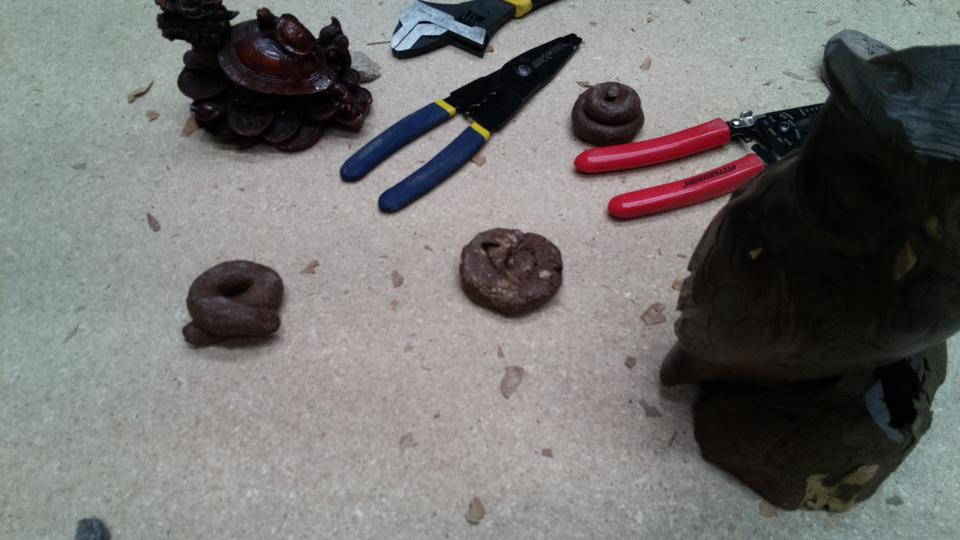poop: (455, 221, 569, 322), (175, 257, 290, 351), (570, 78, 649, 151)
